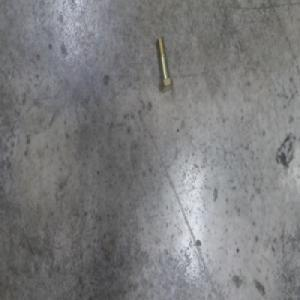Bolt: (156, 36, 173, 93)
